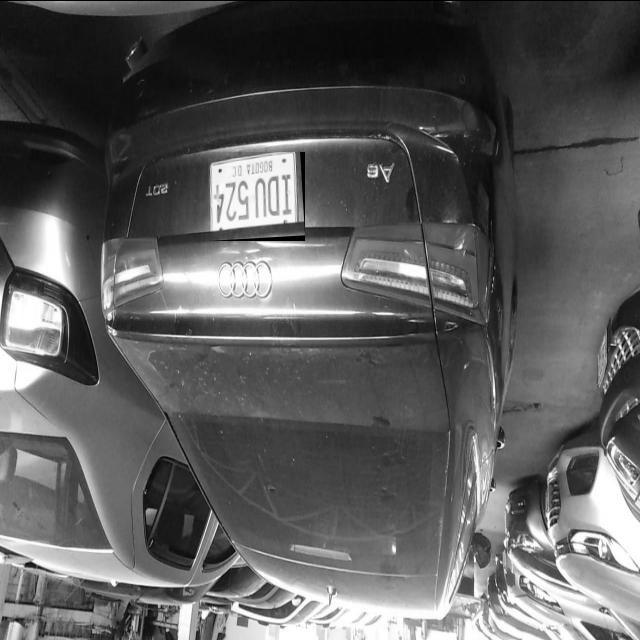plate: (208, 151, 305, 240)
